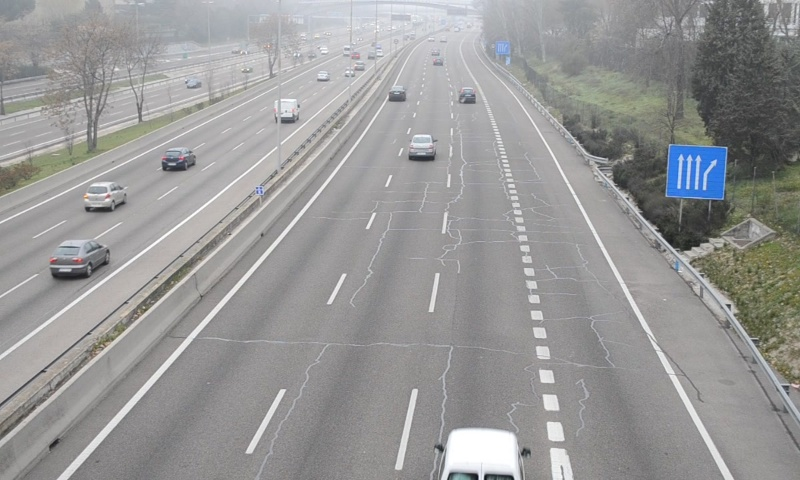car: (410, 134, 436, 160), (458, 86, 477, 104), (388, 86, 406, 102)
